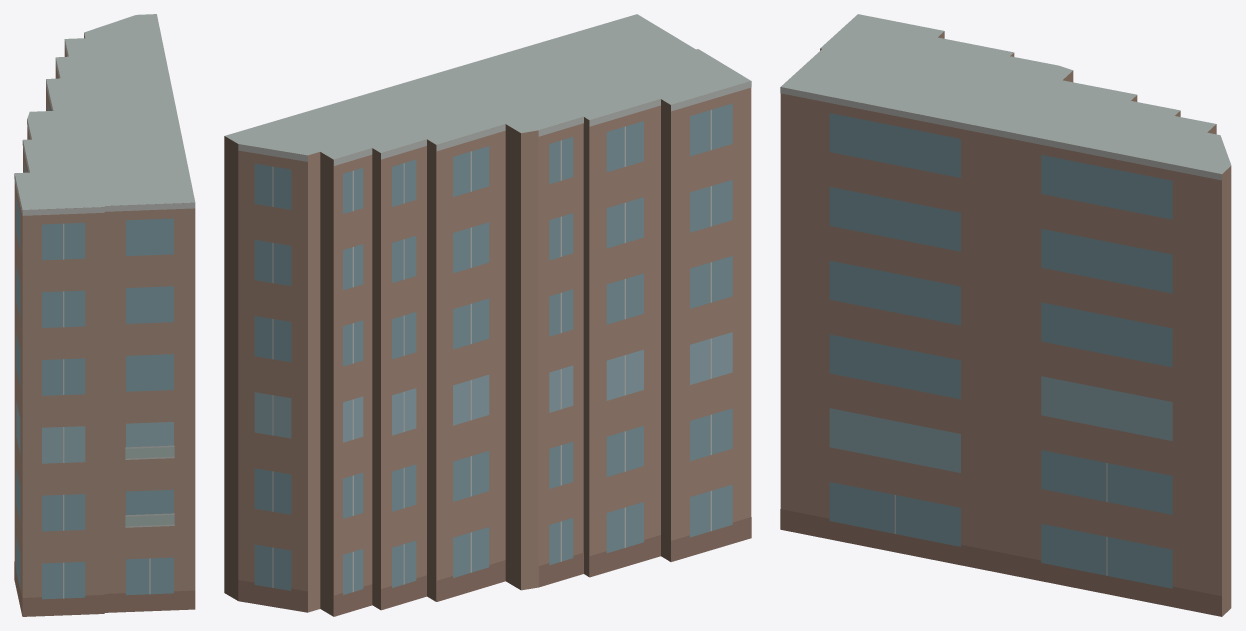
File: survey-upis-32616058.glb
The picture shows the model from 3 angles, left to right: view 1: azimuth 30°, elevation 25°; view 2: azimuth 150°, elevation 25°; view 3: azimuth 270°, elevation 25°; orthographic projection. The views are drawn at different scales.
Visible parts, largest first — view 1: survey-upis-32616058.tmp; view 2: survey-upis-32616058.tmp; view 3: survey-upis-32616058.tmp.
Boxes of the visible parts, x1,y1,x2,y2 form: survey-upis-32616058.tmp: [14, 14, 195, 616]; survey-upis-32616058.tmp: [224, 14, 751, 616]; survey-upis-32616058.tmp: [780, 14, 1231, 616].
Bounding box in the file's own units: 13.28 × 17.1 × 15.8.
